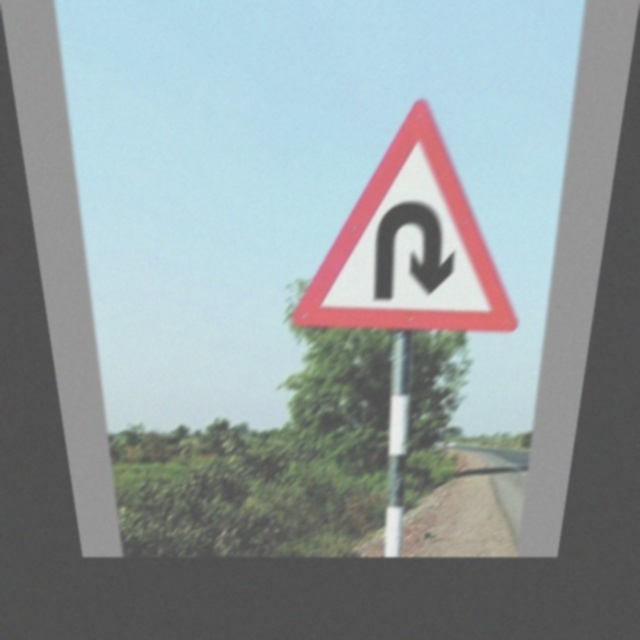Right_Hair_Pin_Bend: (290, 100, 543, 331)
